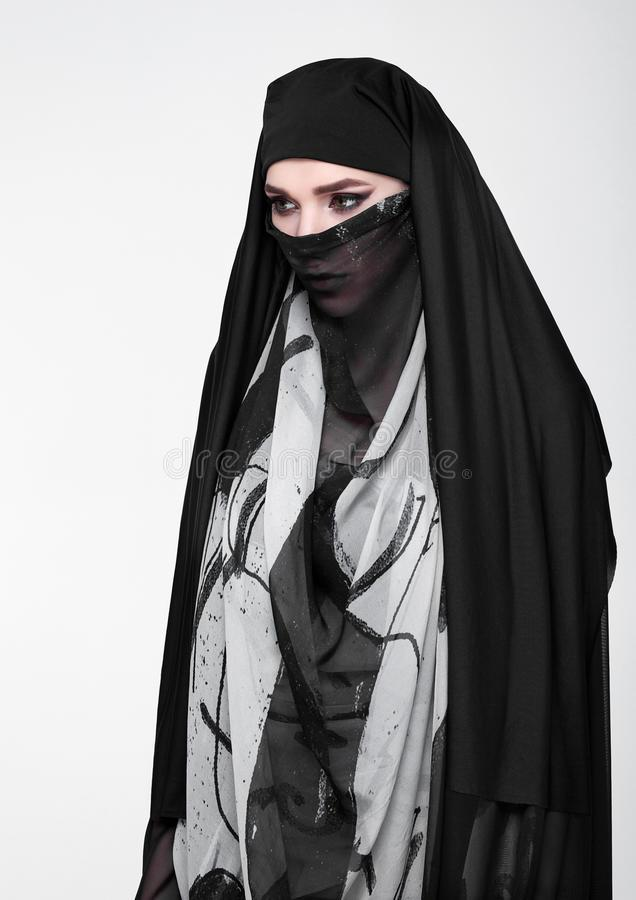No Mask: (191, 58, 580, 512)
